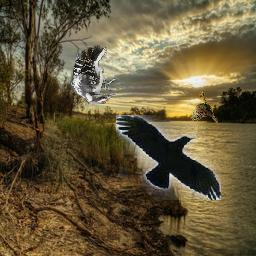Crow: (117, 116, 222, 201)
Sparrow: (190, 91, 219, 123)
Woodpecker: (70, 46, 116, 105)
